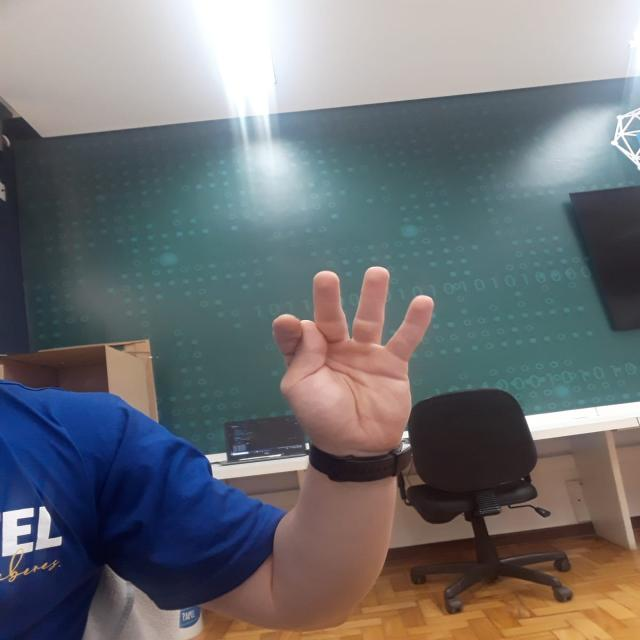T: (269, 252, 451, 438)
